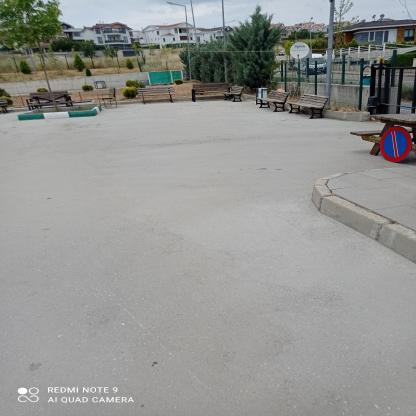No Waiting: (381, 127, 413, 163)
